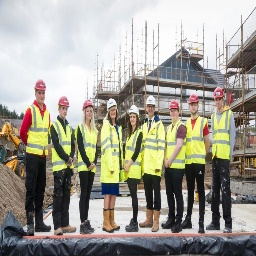helmet: (187, 88, 202, 108), (34, 78, 50, 95), (210, 88, 226, 103), (57, 95, 70, 110), (106, 97, 118, 113), (166, 99, 180, 112), (144, 96, 157, 109), (82, 100, 93, 114), (128, 106, 139, 118)
person: (15, 75, 52, 237), (94, 96, 124, 237), (50, 96, 80, 229), (208, 86, 235, 232), (184, 92, 210, 234), (140, 93, 166, 231), (162, 102, 188, 234), (77, 99, 97, 234), (122, 102, 141, 225)
vest: (100, 117, 124, 189), (140, 114, 166, 180), (208, 105, 236, 162), (27, 101, 52, 162), (52, 110, 74, 172), (184, 112, 208, 168), (164, 115, 186, 176), (75, 119, 98, 176), (124, 125, 144, 181)
